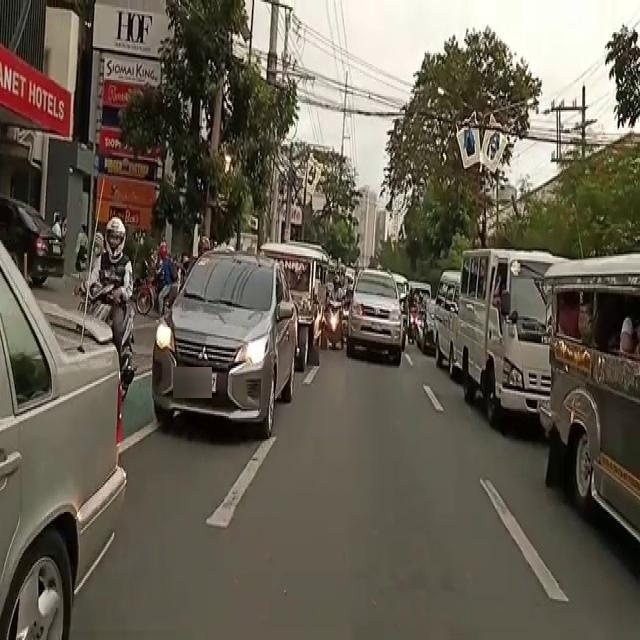car: (0, 270, 90, 622), (158, 254, 293, 438), (464, 252, 548, 428), (350, 270, 399, 372)
jeepney: (550, 268, 640, 546), (273, 244, 323, 374)
motorcycle: (93, 231, 145, 414), (326, 277, 342, 354)
